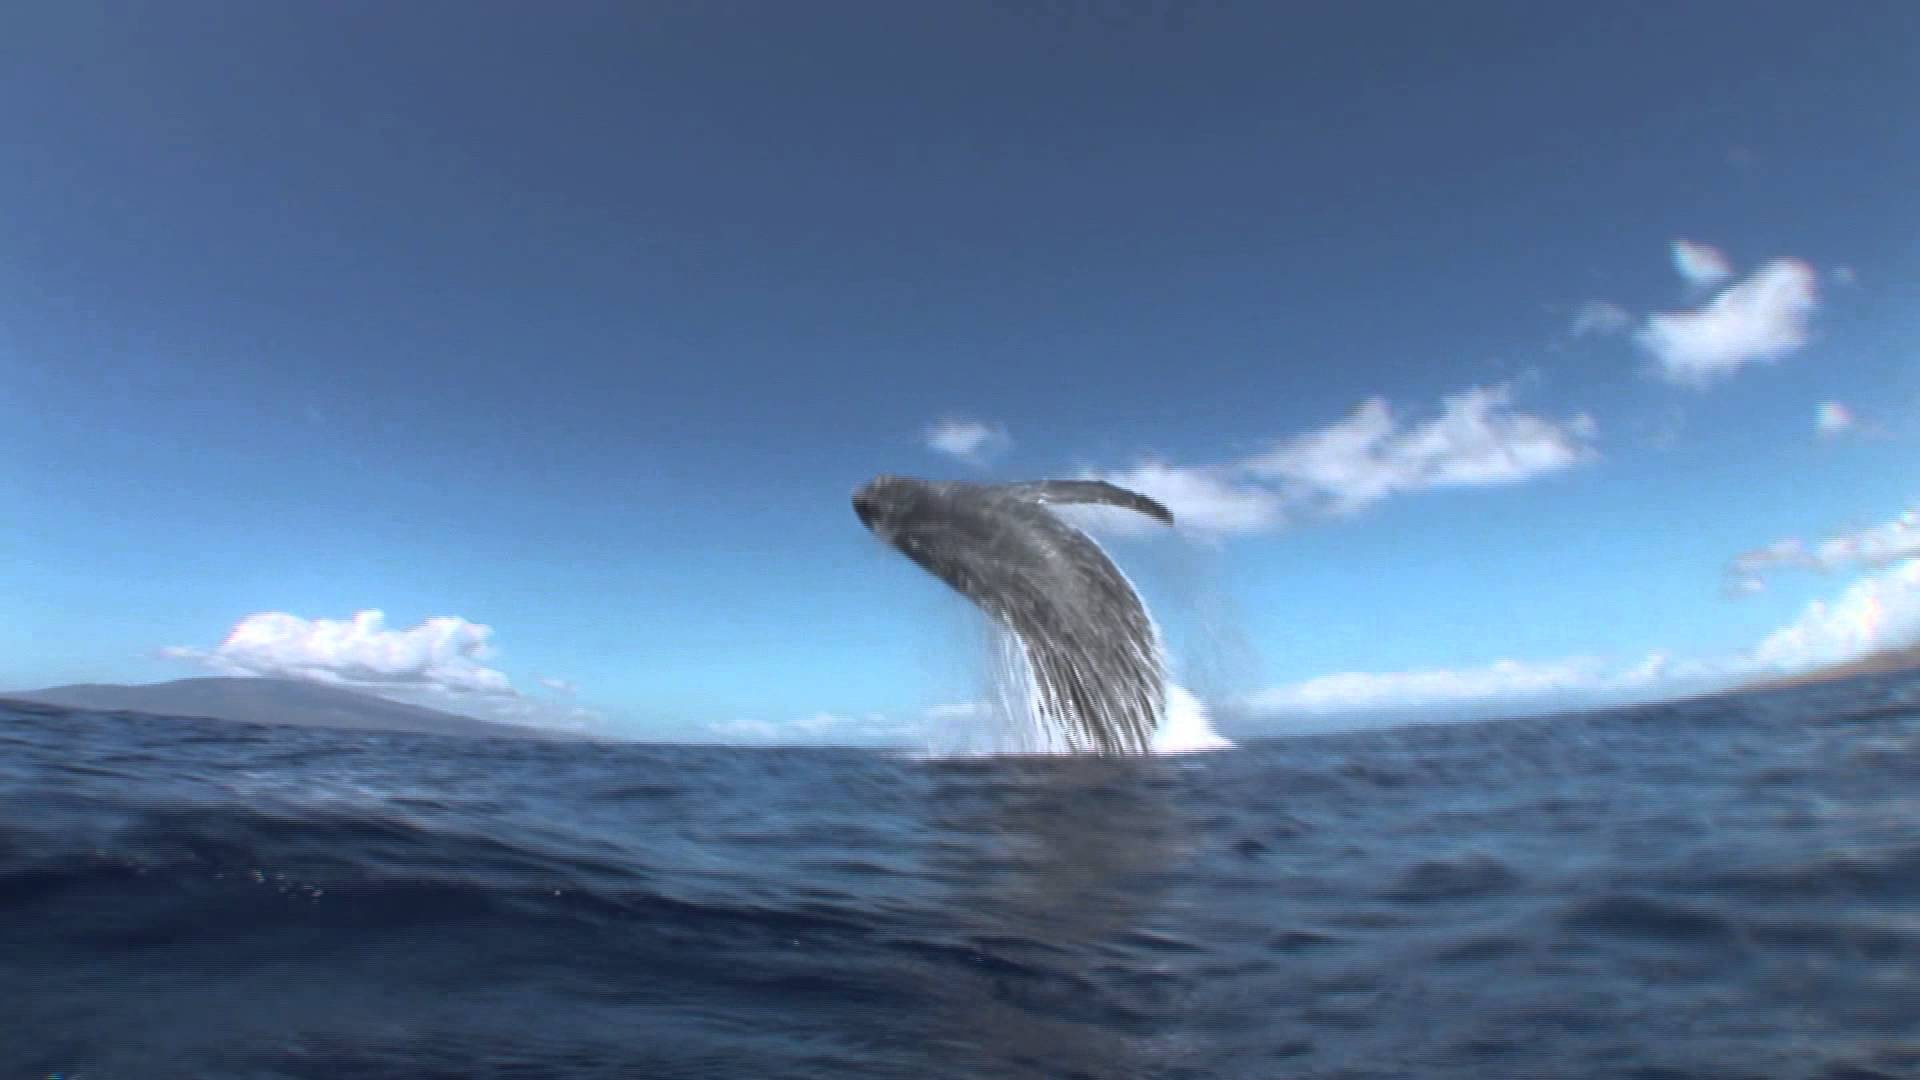humpback: (852, 473, 1166, 754)
